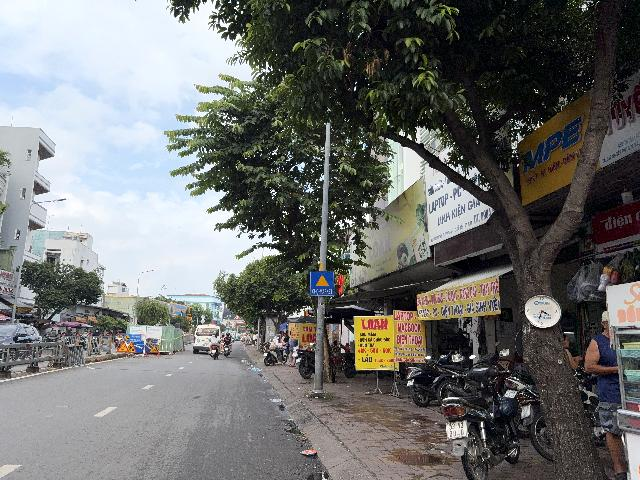khu-vuc-cho-phia-truoc: (310, 271, 334, 296)
